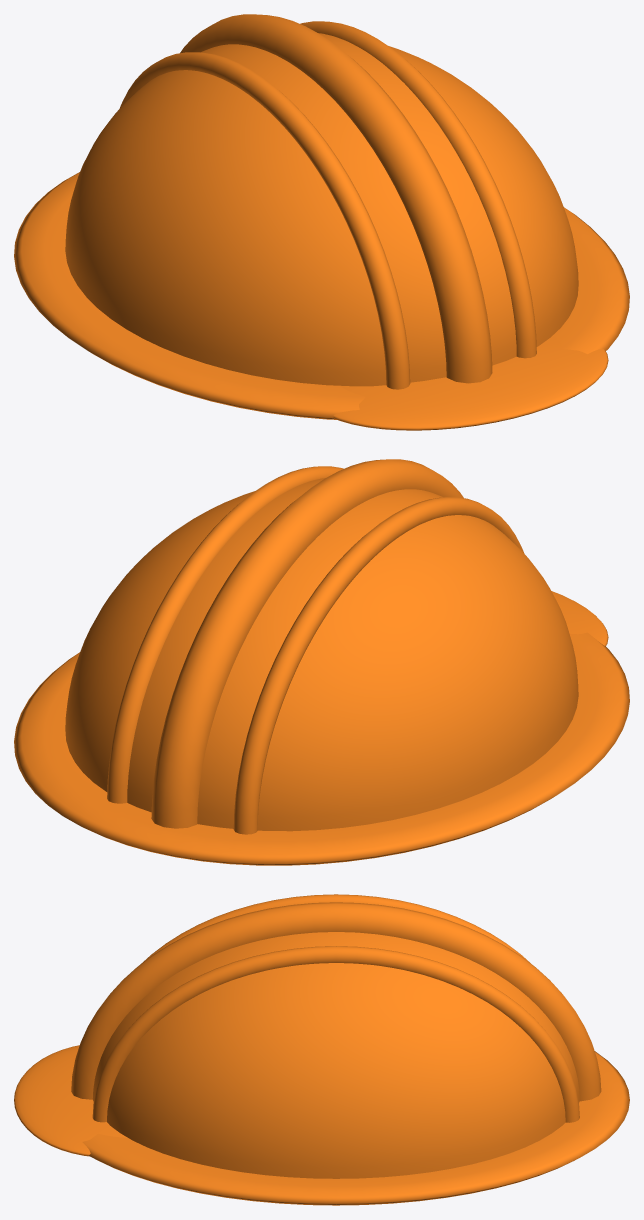
Rendered from hat.glb.
3 views of the same model, one above another, from view 1: azimuth 30°, elevation 25°; view 2: azimuth 150°, elevation 25°; view 3: azimuth 270°, elevation 25° (orthographic). The views are drawn at different scales.
Visible parts, largest first — view 1: dome, brim, ridge, Sphere, ridge.001, ridge.002; view 2: dome, brim, ridge, ridge.001, ridge.002, Sphere; view 3: dome, ridge, brim, ridge.002, Sphere, ridge.001.
Boxes of the visible parts, <box> form: dome: <box>65,33,578,386</box>; brim: <box>14,172,629,419</box>; ridge: <box>180,14,492,383</box>; Sphere: <box>333,335,608,430</box>; ridge.001: <box>119,52,410,389</box>; ridge.002: <box>300,21,536,358</box>; dome: <box>65,478,578,831</box>; brim: <box>14,632,629,865</box>; ridge: <box>151,459,463,828</box>; ridge.001: <box>233,497,524,834</box>; ridge.002: <box>107,466,343,803</box>; Sphere: <box>551,591,608,646</box>; dome: <box>92,932,579,1178</box>; ridge: <box>71,902,601,1101</box>; brim: <box>82,1051,629,1205</box>; ridge.002: <box>92,946,579,1122</box>; Sphere: <box>14,1045,127,1156</box>; ridge.001: <box>141,894,530,963</box>.
Size of the model in its own units: 2.4 by 1.11 by 3.02.
